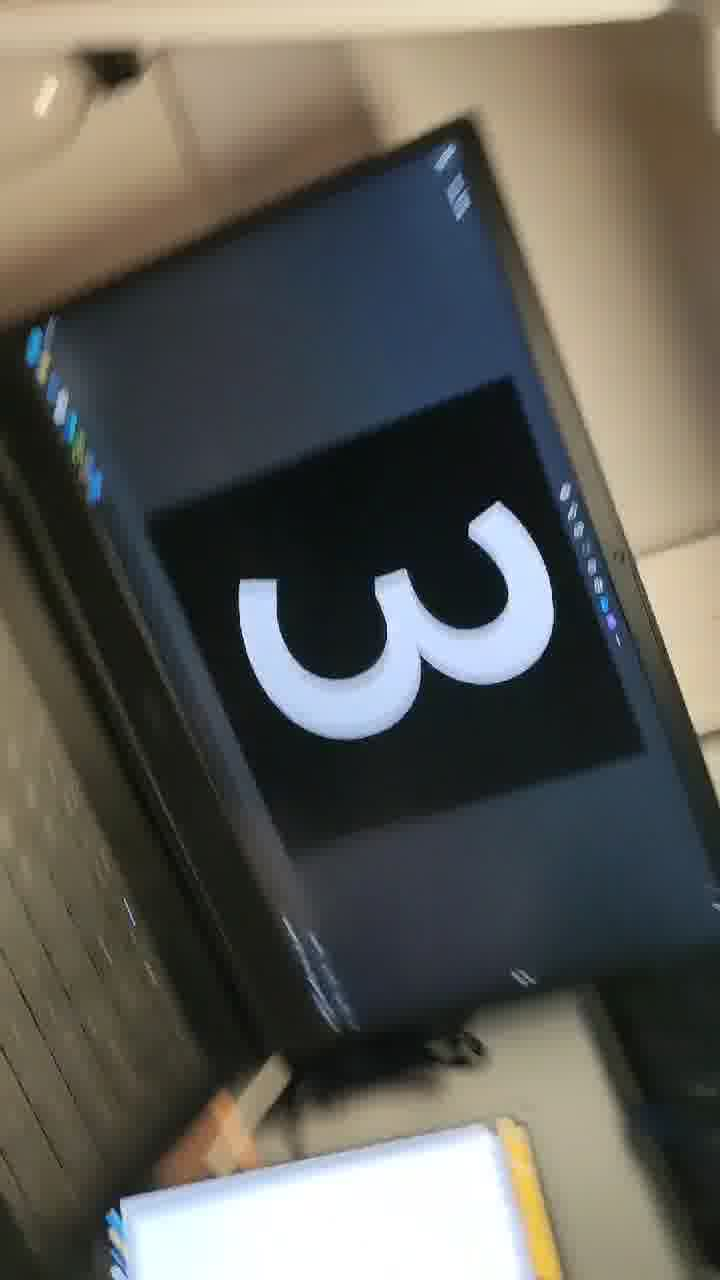three: (226, 444, 666, 809)
